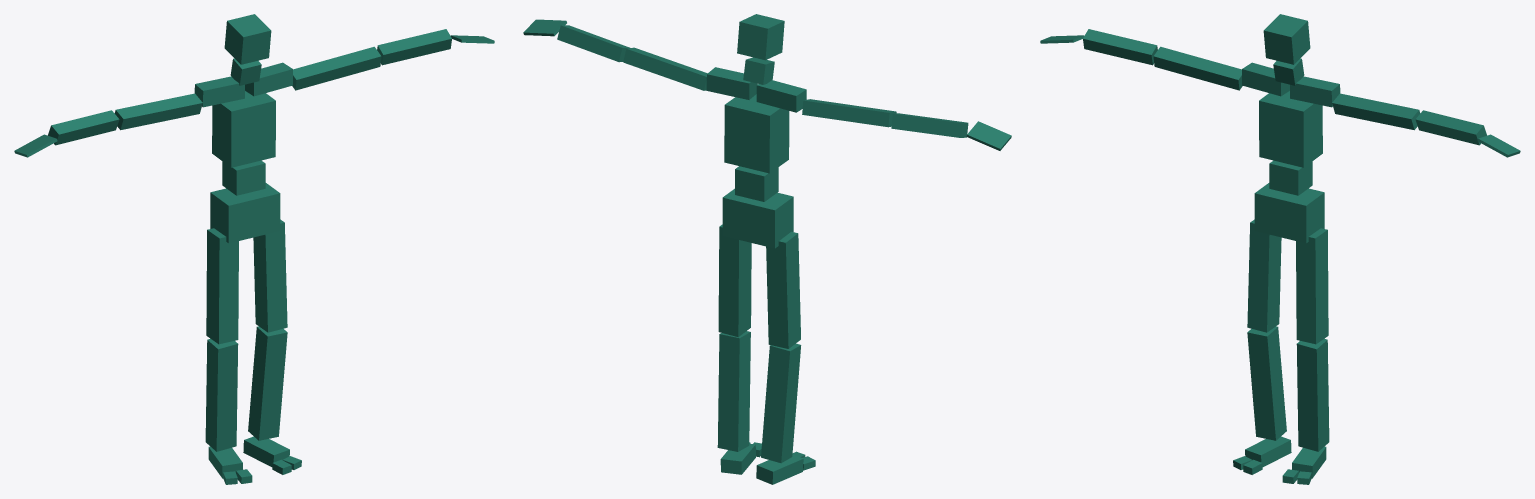
The model's file is rig.fbx.
3 renders of one model, left to right at view 1: azimuth 30°, elevation 25°; view 2: azimuth 150°, elevation 25°; view 3: azimuth 330°, elevation 25°, orthographic.
Parts seen in each view (by area): view 1: TorsoBox, FemurBoxR, TibiaBoxL, TibiaBoxR, PelvisBox, FemurBoxL, ArmBoxL, HeadBox, ArmBoxR, ForeArmBoxL, ForeArmBoxR, SpineBox (+5 smaller); view 2: TorsoBox, TibiaBoxL, TibiaBoxR, FemurBoxR, PelvisBox, FemurBoxL, HeadBox, ArmBoxL, ArmBoxR, ForeArmBoxR, SpineBox, ForeArmBoxL (+7 smaller); view 3: TorsoBox, FemurBoxL, TibiaBoxR, TibiaBoxL, PelvisBox, FemurBoxR, ArmBoxR, HeadBox, ArmBoxL, ForeArmBoxR, ForeArmBoxL, SpineBox (+5 smaller).
Part boxes in pixels (<box>): TorsoBox: <box>212,91,275,167</box>; FemurBoxR: <box>206,228,238,344</box>; TibiaBoxL: <box>248,326,287,440</box>; TibiaBoxR: <box>205,338,238,451</box>; PelvisBox: <box>210,183,280,243</box>; FemurBoxL: <box>253,219,287,332</box>; ArmBoxL: <box>292,46,381,90</box>; HeadBox: <box>224,14,271,64</box>; ArmBoxR: <box>114,93,202,130</box>; ForeArmBoxL: <box>377,29,451,65</box>; ForeArmBoxR: <box>48,110,119,145</box>; SpineBox: <box>222,160,265,195</box>; TorsoBox: <box>724,94,789,173</box>; TibiaBoxL: <box>717,331,750,451</box>; TibiaBoxR: <box>761,343,801,463</box>; FemurBoxR: <box>766,231,800,348</box>; PelvisBox: <box>722,188,793,248</box>; FemurBoxL: <box>718,224,751,337</box>; HeadBox: <box>737,14,784,60</box>; ArmBoxL: <box>623,47,707,90</box>; ArmBoxR: <box>802,99,896,127</box>; ForeArmBoxR: <box>891,113,968,137</box>; SpineBox: <box>735,166,778,201</box>; ForeArmBoxL: <box>557,25,629,62</box>; TorsoBox: <box>1259,91,1322,167</box>; FemurBoxL: <box>1296,228,1328,344</box>; TibiaBoxR: <box>1247,326,1286,440</box>; TibiaBoxL: <box>1296,338,1329,451</box>; PelvisBox: <box>1254,183,1324,243</box>; FemurBoxR: <box>1247,219,1281,332</box>; ArmBoxR: <box>1153,46,1242,90</box>; HeadBox: <box>1263,14,1310,64</box>; ArmBoxL: <box>1332,93,1420,130</box>; ForeArmBoxR: <box>1083,29,1157,65</box>; ForeArmBoxL: <box>1415,110,1486,145</box>; SpineBox: <box>1269,160,1312,195</box>.
Size of the model in its own units: 189 by 171 by 23.47.
